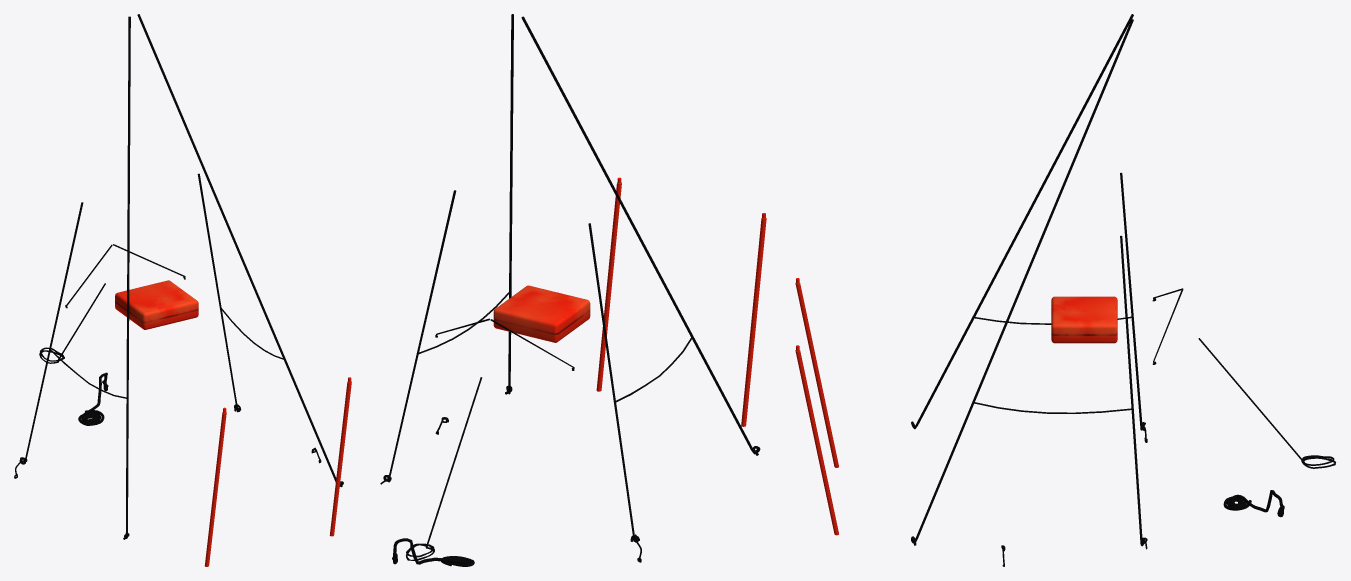
File: support.obj
3 renders of one model, left to right at view 1: azimuth 30°, elevation 25°; view 2: azimuth 150°, elevation 25°; view 3: azimuth 270°, elevation 25°, orthographic. The views are drawn at different scales.
Visible parts, largest first — view 1: Material-TENDA-BASTONI; view 2: Material-TENDA-BASTONI; view 3: Material-TENDA-BASTONI.
Boxes of the visible parts, x1=… form: Material-TENDA-BASTONI: x1=14, y1=14, x2=351, y2=566; Material-TENDA-BASTONI: x1=380, y1=14, x2=766, y2=566; Material-TENDA-BASTONI: x1=795, y1=14, x2=1335, y2=566.
Size of the model in its own units: 3.88 by 6.75 by 6.8.
Materials: 1 (1 with a texture image).
